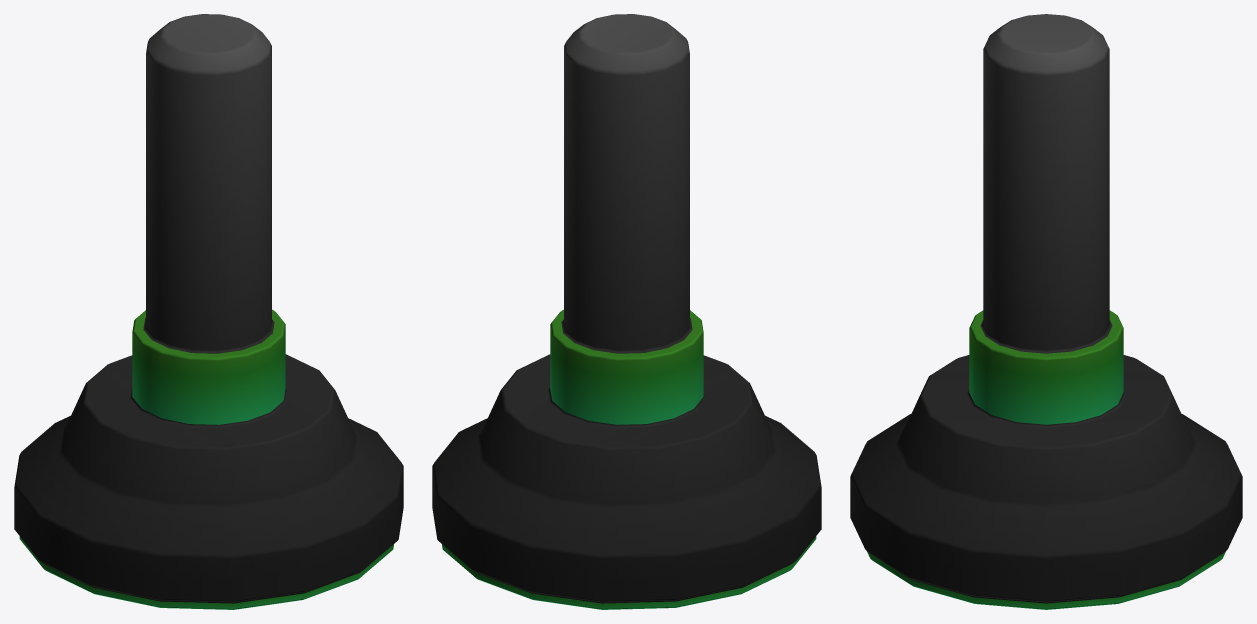
File: SM_Stamp_Approved.fbx
3 views of the same model, side by side, from view 1: azimuth 30°, elevation 25°; view 2: azimuth 150°, elevation 25°; view 3: azimuth 270°, elevation 25° (orthographic).
Visible parts, largest first — view 1: Stamp_Approved; view 2: Stamp_Approved; view 3: Stamp_Approved.
Boxes of the visible parts, x1,y1,x2,y2 form: Stamp_Approved: [14, 14, 403, 609]; Stamp_Approved: [432, 14, 821, 609]; Stamp_Approved: [850, 14, 1242, 609].
Bounding box in the file's own units: 50 × 69.98 × 50.
